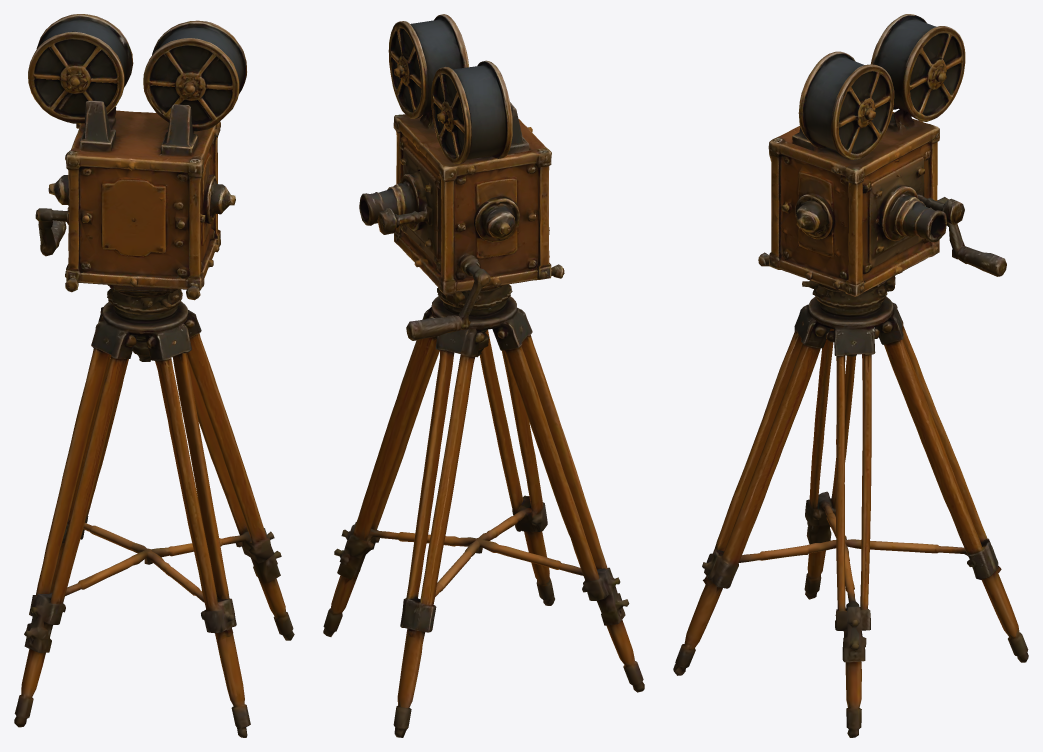
File: m_camera.glb
3 renders of one model, left to right at view 1: azimuth 30°, elevation 25°; view 2: azimuth 150°, elevation 25°; view 3: azimuth 270°, elevation 25°, orthographic.
Visible parts, largest first — view 1: tripo_node_0ff51206-ff2f-46a9-9e21-3df80fe06623; view 2: tripo_node_0ff51206-ff2f-46a9-9e21-3df80fe06623; view 3: tripo_node_0ff51206-ff2f-46a9-9e21-3df80fe06623.
Boxes of the visible parts, x1,y1,x2,y2 form: tripo_node_0ff51206-ff2f-46a9-9e21-3df80fe06623: [14, 14, 294, 737]; tripo_node_0ff51206-ff2f-46a9-9e21-3df80fe06623: [323, 14, 644, 737]; tripo_node_0ff51206-ff2f-46a9-9e21-3df80fe06623: [673, 14, 1028, 737].
Size of the model in its own units: 0.4914 by 1 by 0.51.
1 material, 1 textured.
